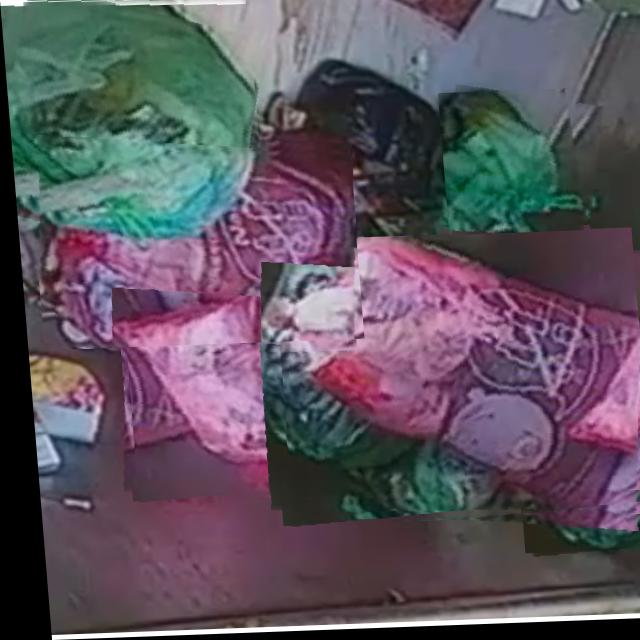general_trashbag: (7, 0, 254, 242), (512, 293, 640, 553), (441, 96, 582, 256)
other_trashbag: (271, 240, 633, 515), (36, 150, 350, 347), (118, 288, 330, 496)
